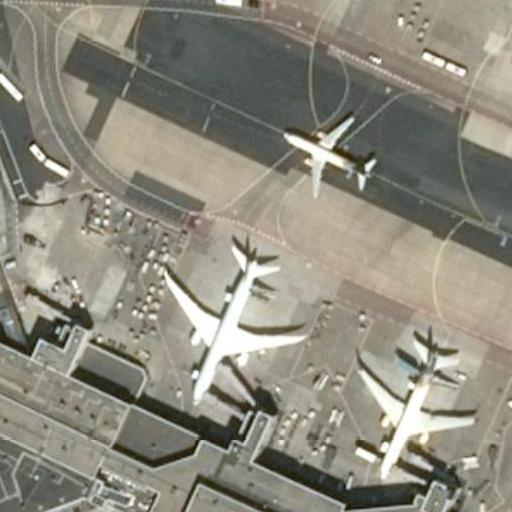Aircraft: (159, 240, 307, 402), (355, 331, 474, 475), (284, 109, 371, 195)
